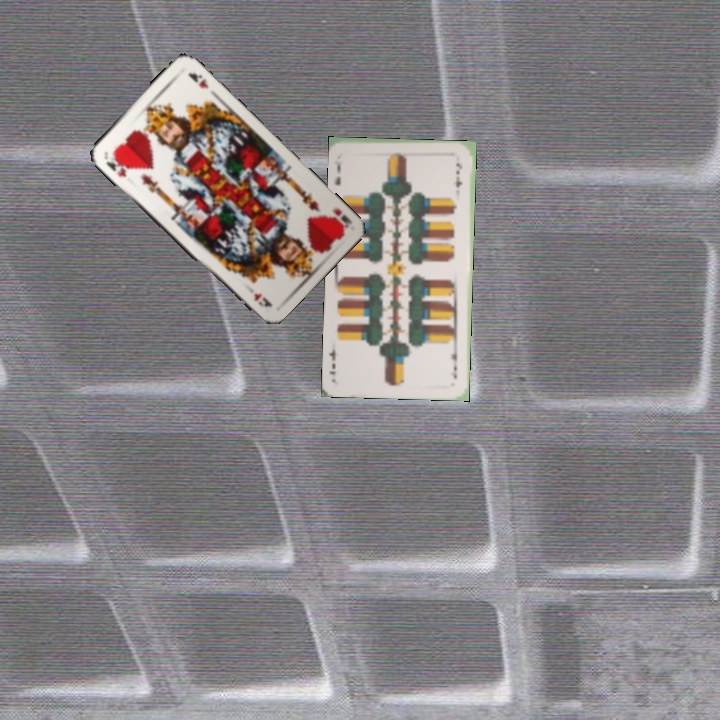E7: (447, 344, 460, 381), (330, 157, 344, 188)
HK: (102, 149, 131, 180), (326, 204, 354, 232)
